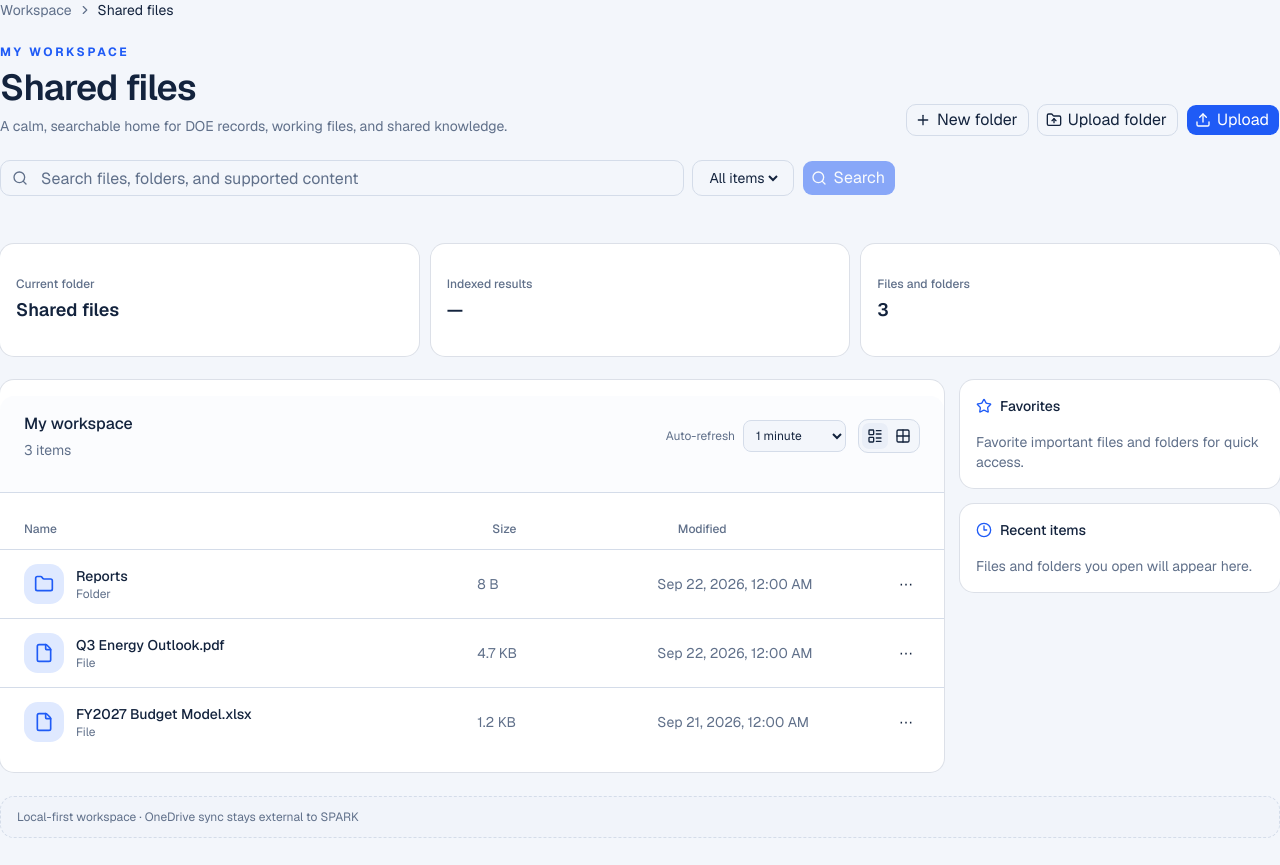
Test: FileWorkspace › searches folder names when the folder scope is selected
Select "Folders" in the dropdown named "Search item type" at point(743, 178), box x1=705 y1=168 x2=781 y2=188
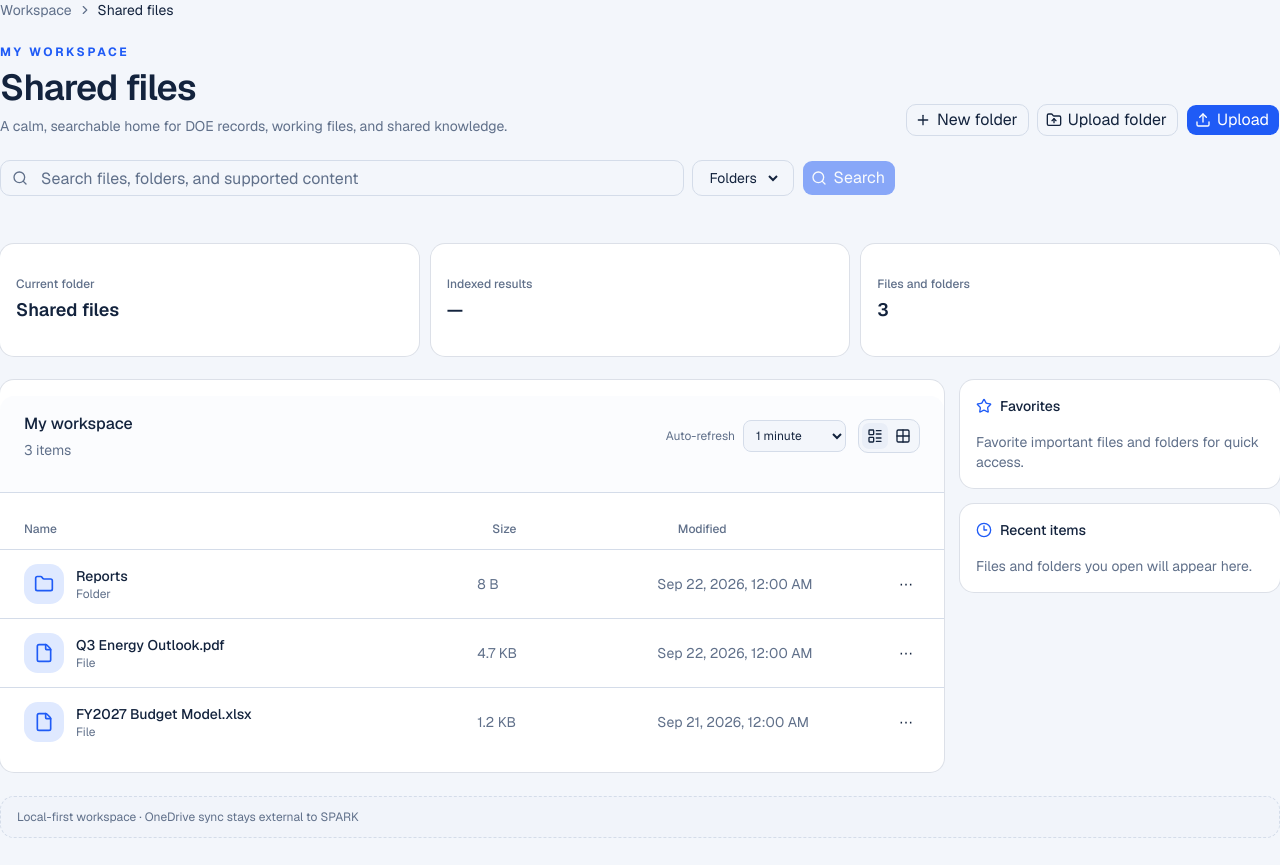
Type "reports" into the search field named "Search workspace" at point(342, 178), box x1=0 y1=160 x2=684 y2=196
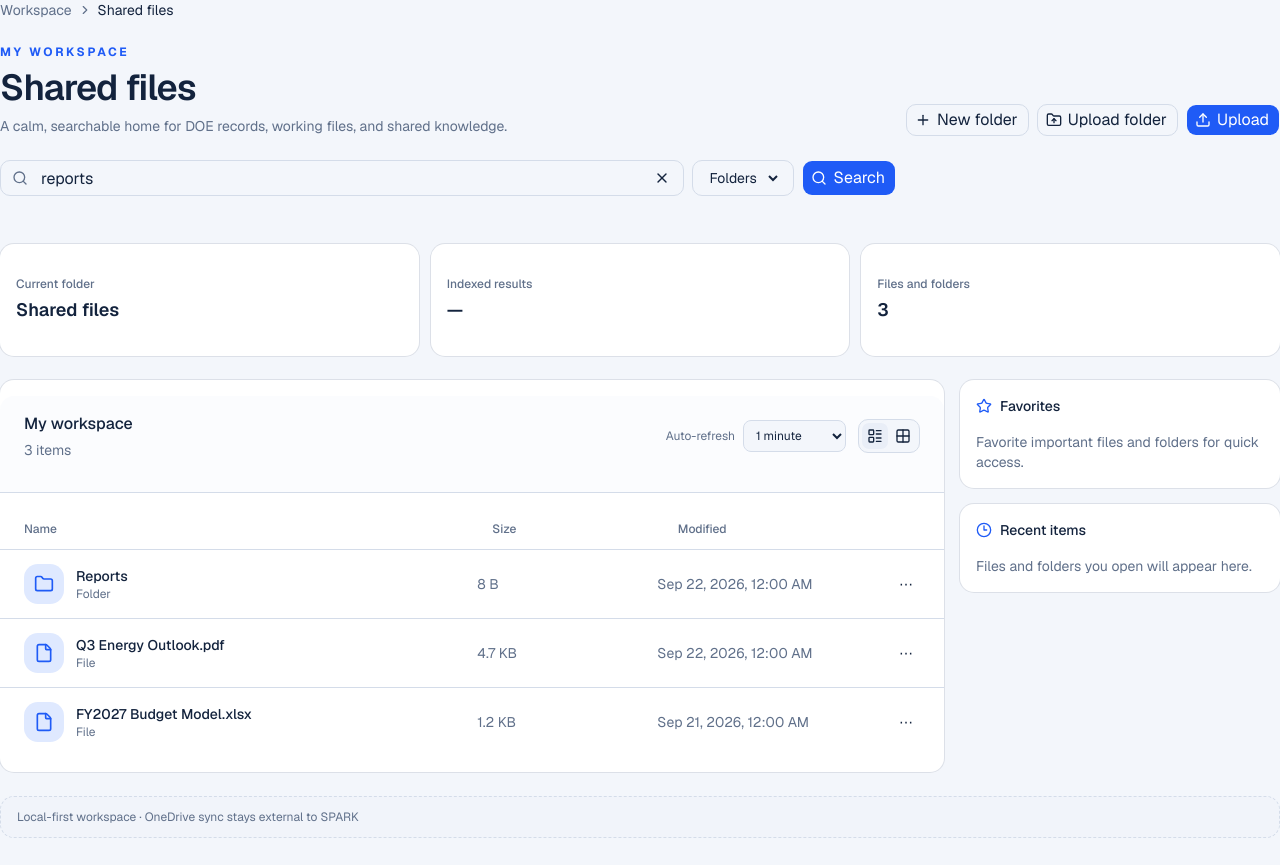
Press Enter in the search field named "Search workspace", box x1=0 y1=160 x2=684 y2=196
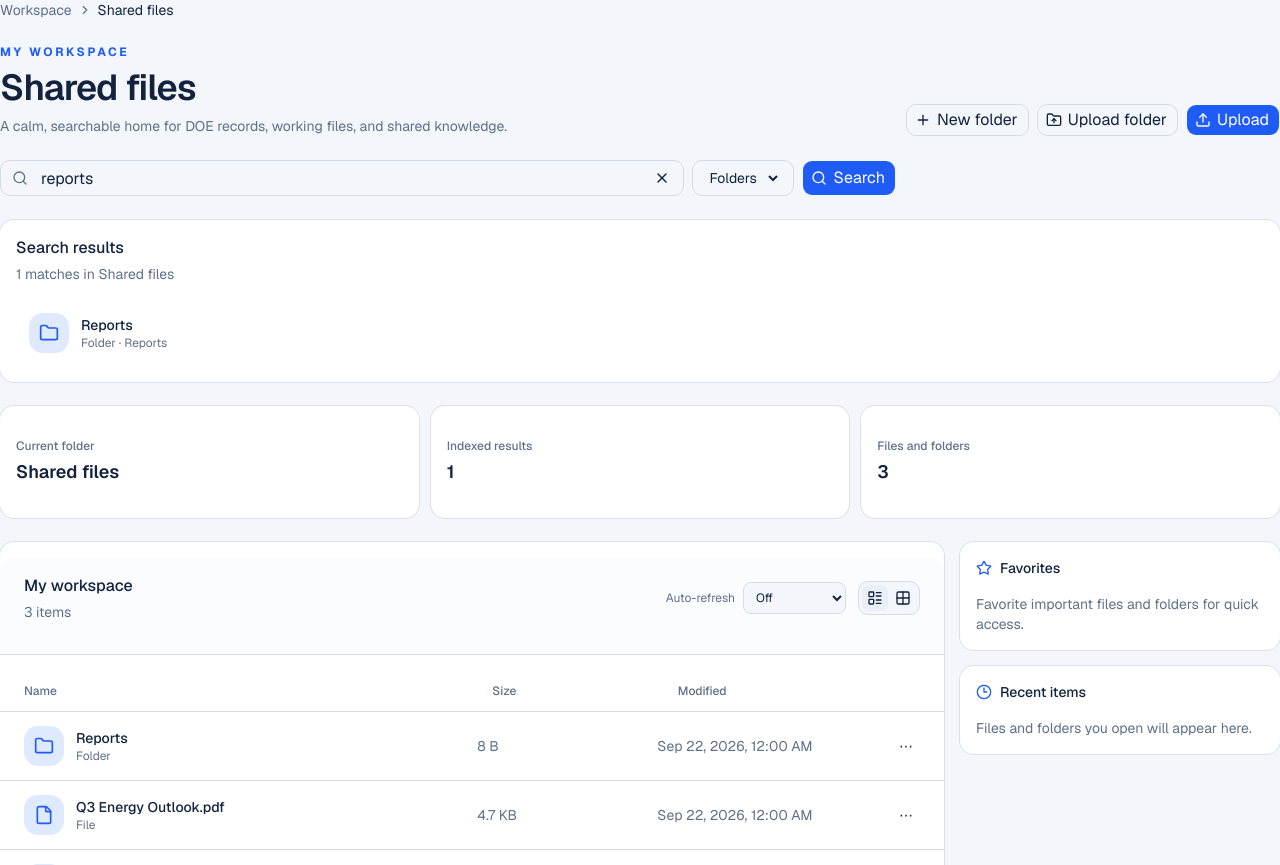
Check: the button with aria-label "Open search result Reports" is shown, box x1=16 y1=300 x2=427 y2=366
